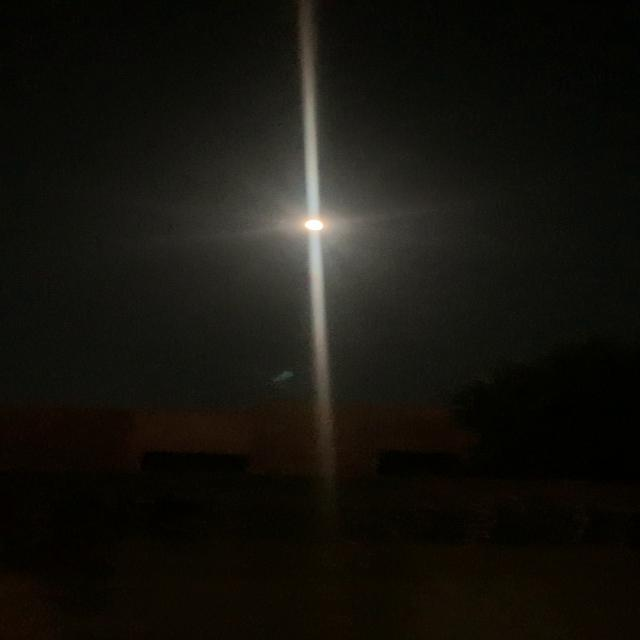moon: (284, 208, 346, 242)
